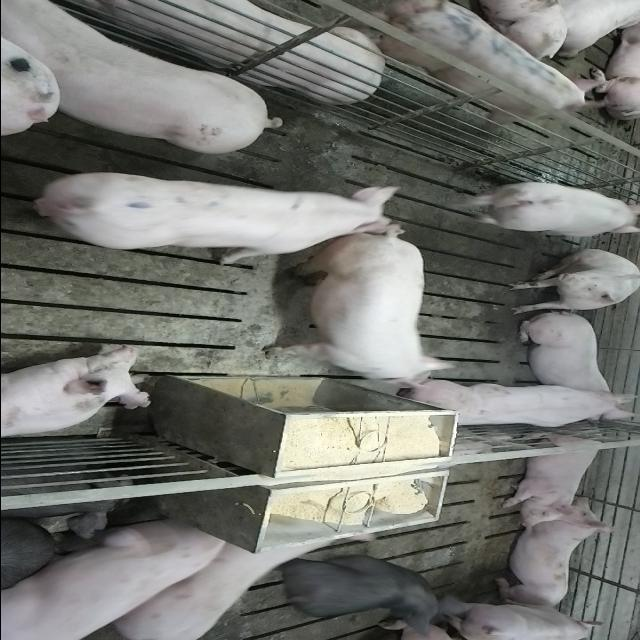Feeding: (252, 221, 448, 390)
Lateral_lying: (51, 0, 383, 102)
Sitting: (397, 379, 632, 434), (502, 247, 638, 314)
Standing: (7, 5, 281, 157), (16, 180, 405, 270), (350, 0, 598, 123), (0, 519, 223, 638), (90, 533, 338, 639), (270, 553, 456, 638), (440, 181, 640, 239)
Sternal_lying: (0, 347, 152, 441), (492, 499, 620, 608), (498, 427, 610, 524), (516, 316, 620, 396)
